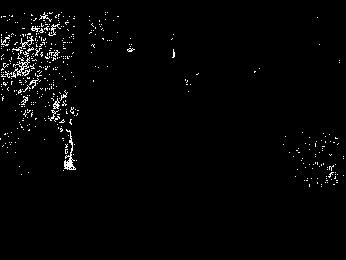person: (50, 87, 85, 173)
